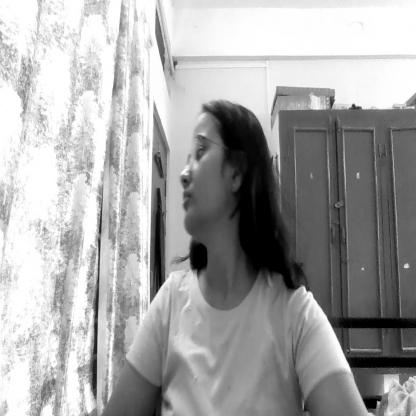Distracted: (180, 96, 260, 246)
